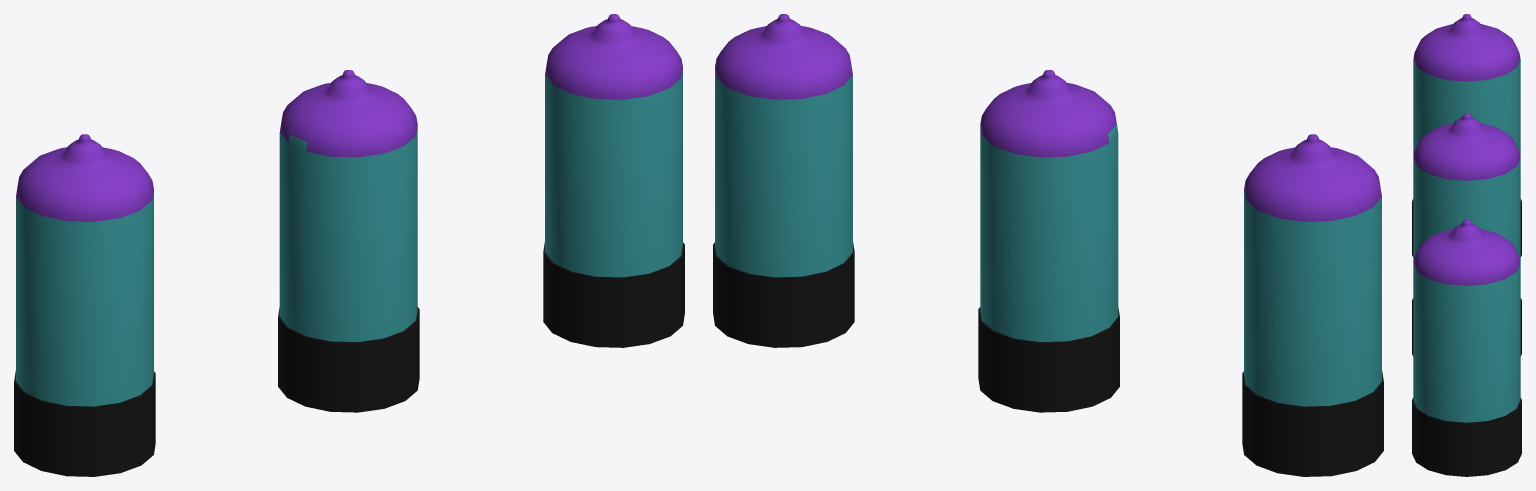
Rendered from Nixie Tube.FBX.
3 views of the same model, side by side, from view 1: azimuth 30°, elevation 25°; view 2: azimuth 150°, elevation 25°; view 3: azimuth 270°, elevation 25° (orthographic). The views are drawn at different scales.
Visible parts, largest first — view 1: Glass.001, Glass.002, Glass, Metal.001, Metal, Metal.002; view 2: Glass.001, Glass.002, Glass, Metal.001, Metal, Metal.002; view 3: Glass, Glass.001, Glass.002, Metal, Metal.001, Metal.002.
Part boxes in pixels (box(x1,y1,x2,y2)): Glass.001: box(279, 70, 417, 341); Glass.002: box(16, 134, 153, 406); Glass: box(545, 14, 682, 277); Metal.001: box(278, 307, 419, 412); Metal: box(543, 242, 684, 347); Metal.002: box(14, 371, 155, 476); Glass.001: box(980, 70, 1118, 341); Glass.002: box(1244, 134, 1381, 406); Glass: box(715, 14, 852, 277); Metal.001: box(978, 307, 1119, 412); Metal: box(713, 242, 854, 347); Metal.002: box(1242, 371, 1383, 476); Glass: box(1413, 219, 1520, 422); Glass.001: box(1413, 113, 1520, 262); Glass.002: box(1413, 14, 1520, 157); Metal: box(1412, 398, 1521, 476); Metal.001: box(1412, 298, 1521, 356); Metal.002: box(1412, 199, 1521, 256).
Bounding box in the file's own units: 1.97 × 0.9008 × 0.3737.
